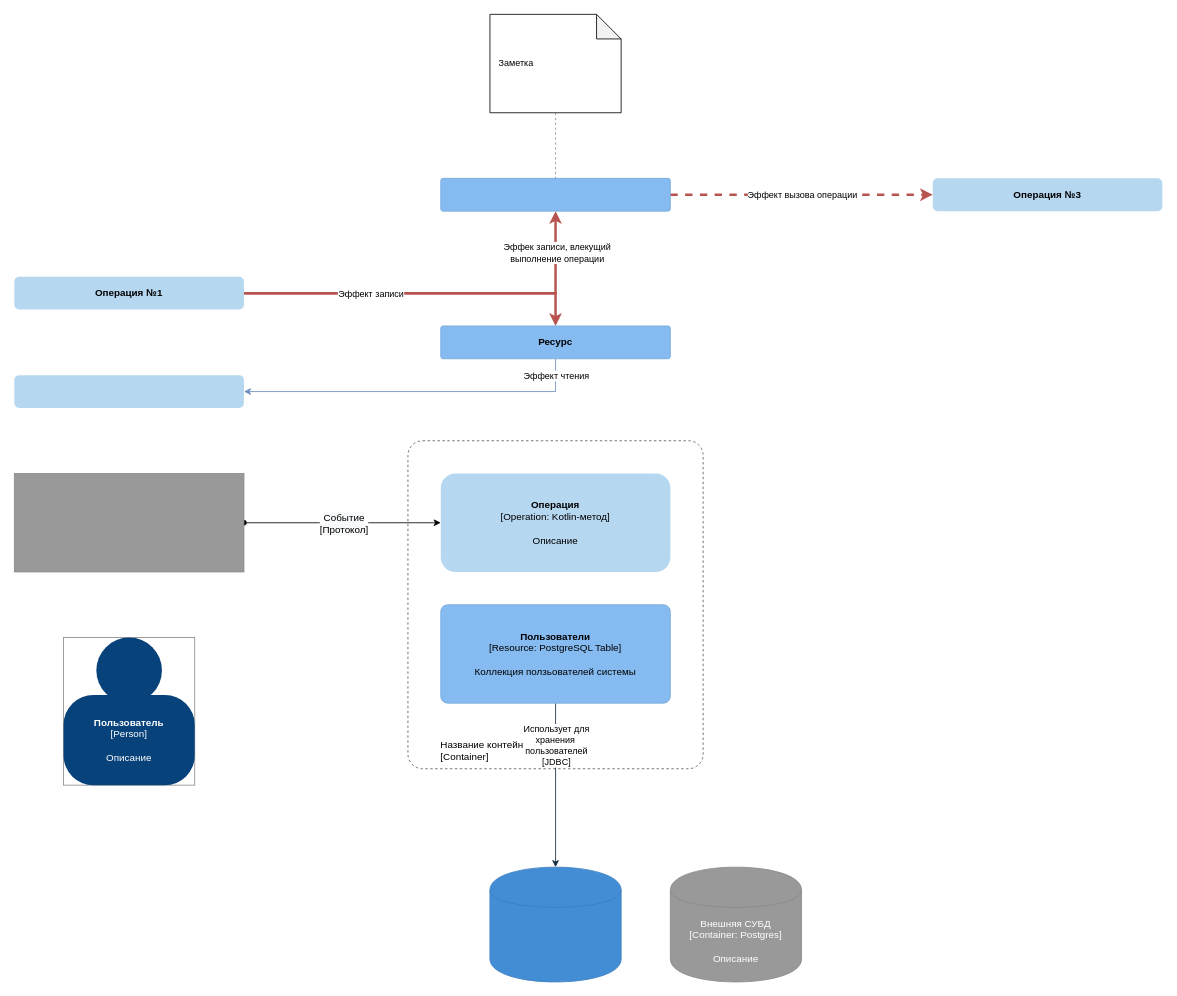
Some shapes in this 1177 by 996 pixel diagram are drawn without their labels. Here are the shapes that lost their labels. From the top down, the box of each, then its label:
(440, 178, 670, 211): Ресурс шины событий
(14, 375, 244, 408): Операция №2
(14, 473, 244, 572): Внешняя система [Software System] Описание
(489, 866, 621, 982): СУБД [Container: Postgres] Описание
